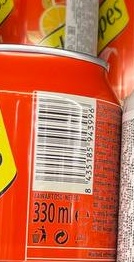1d: (33, 92, 89, 185)
